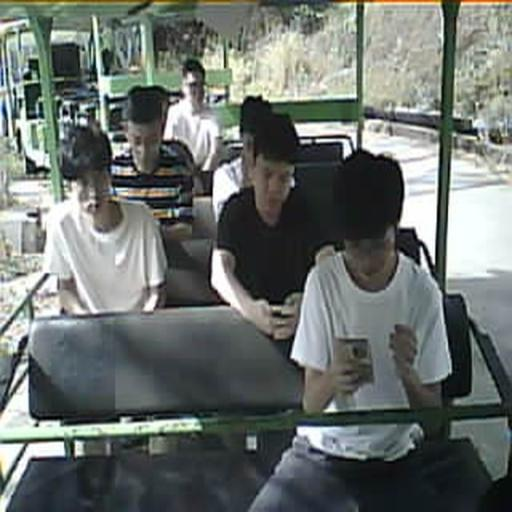persona: (248, 148, 493, 510), (209, 111, 338, 359), (42, 120, 168, 316), (108, 84, 197, 238), (162, 58, 224, 195), (212, 94, 272, 224)
